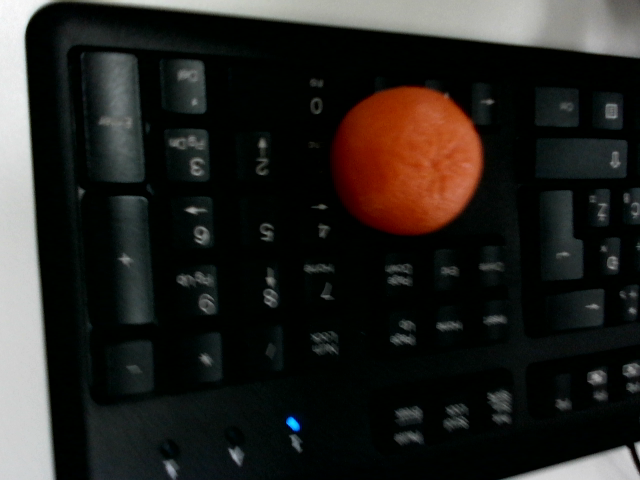orange: (331, 86, 483, 234)
